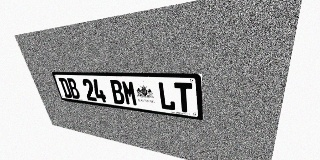2: (81, 79, 97, 101)
4: (91, 79, 107, 102)
B: (109, 80, 126, 105), (66, 78, 81, 99)
D: (58, 78, 73, 98)
L: (157, 82, 176, 111)
M: (121, 80, 138, 106)
T: (174, 82, 193, 113)
